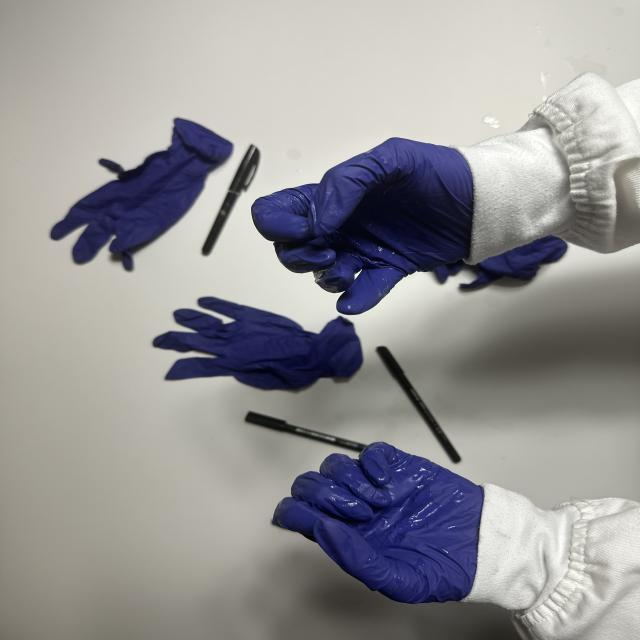gloves_contaminated: (252, 138, 473, 315), (274, 442, 483, 603)
